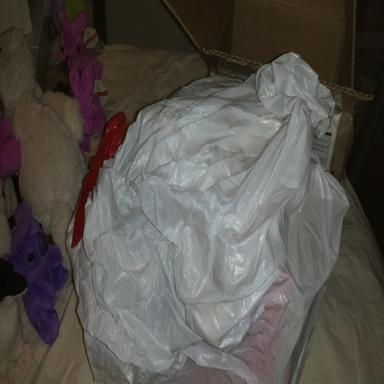plasticbag: (67, 47, 350, 383)
